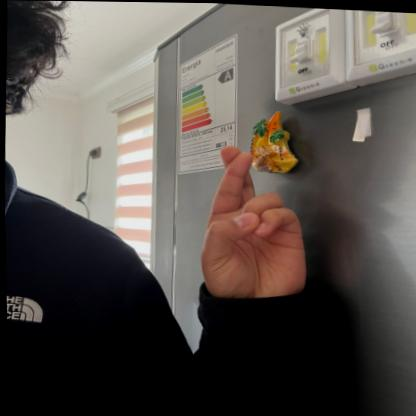R: (190, 142, 315, 303)
